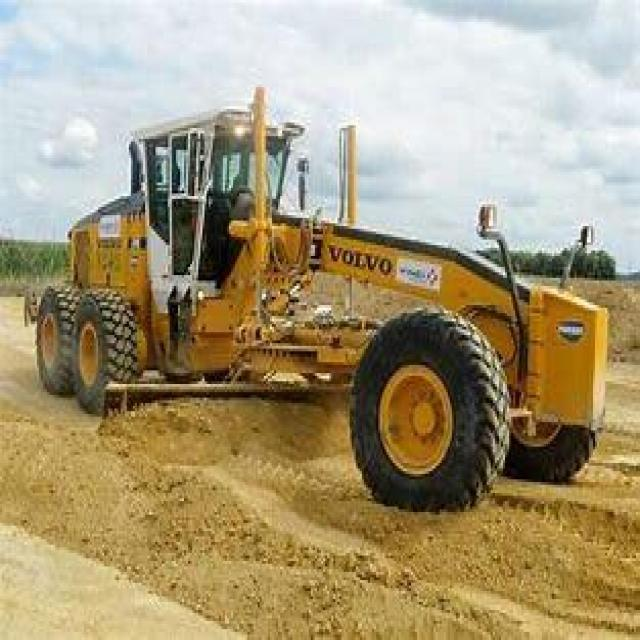Grader: (10, 87, 608, 537)
